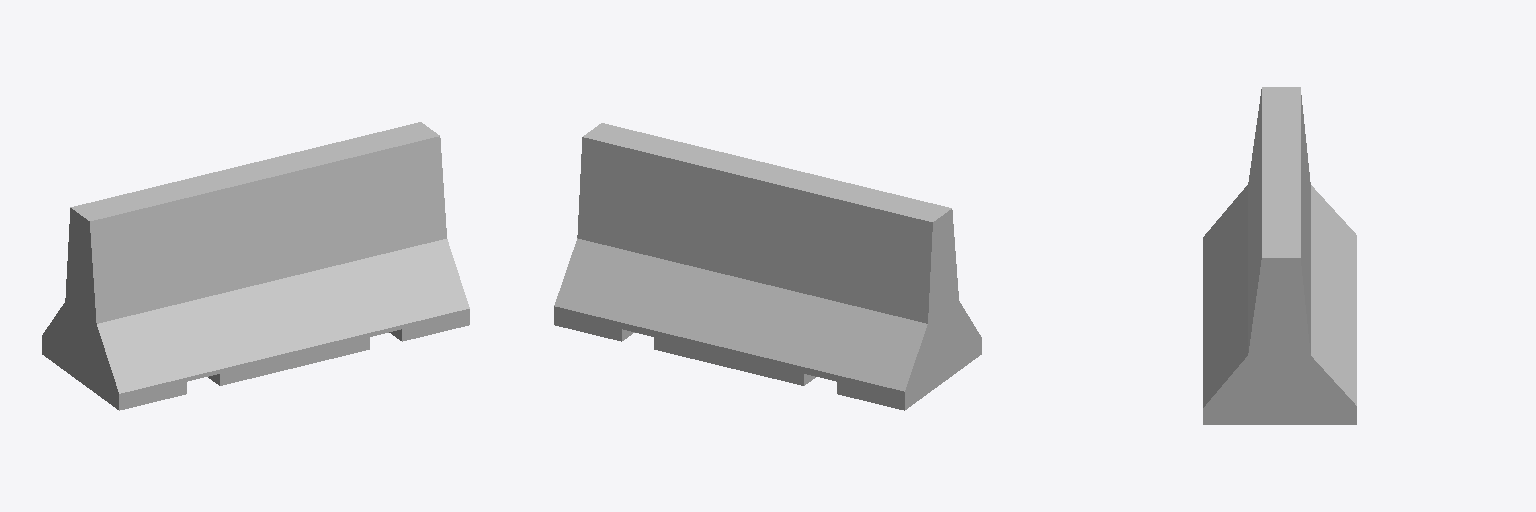
The model's file is Roadblock.obj.
3 renders of one model, left to right at view 1: azimuth 30°, elevation 25°; view 2: azimuth 150°, elevation 25°; view 3: azimuth 270°, elevation 25°, orthographic.
Parts seen in each view (by area): view 1: Roadblock; view 2: Roadblock; view 3: Roadblock.
Part boxes in pixels (x1,y1,x2,y2): Roadblock: (42, 122, 469, 410); Roadblock: (554, 123, 981, 410); Roadblock: (1203, 87, 1356, 424).
Bounding box in the file's own units: 2.35 × 1.07 × 0.8942.